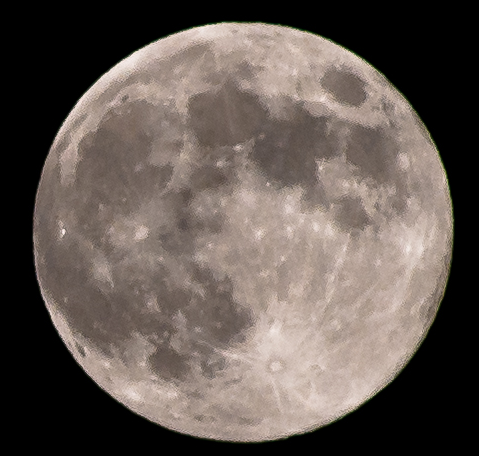crater: (236, 317, 338, 403), (119, 210, 165, 254), (49, 218, 78, 244), (253, 171, 278, 194), (56, 285, 77, 310)
